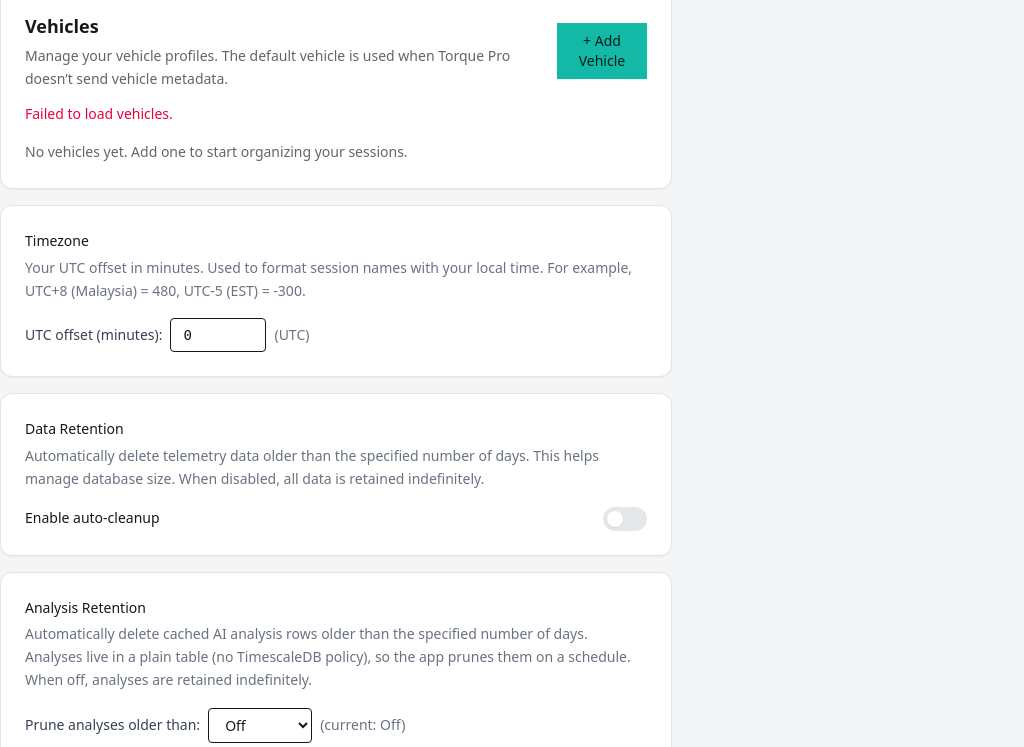
Test: SettingsPage (jsdom) › retention toggle failure shows the API message and re-reads full settings
This screenshot has width=1024, height=747.
(page scrolled)
Step 1. Click the switch named "Enable auto-cleanup" → (625, 518), box [603,506,647,530]
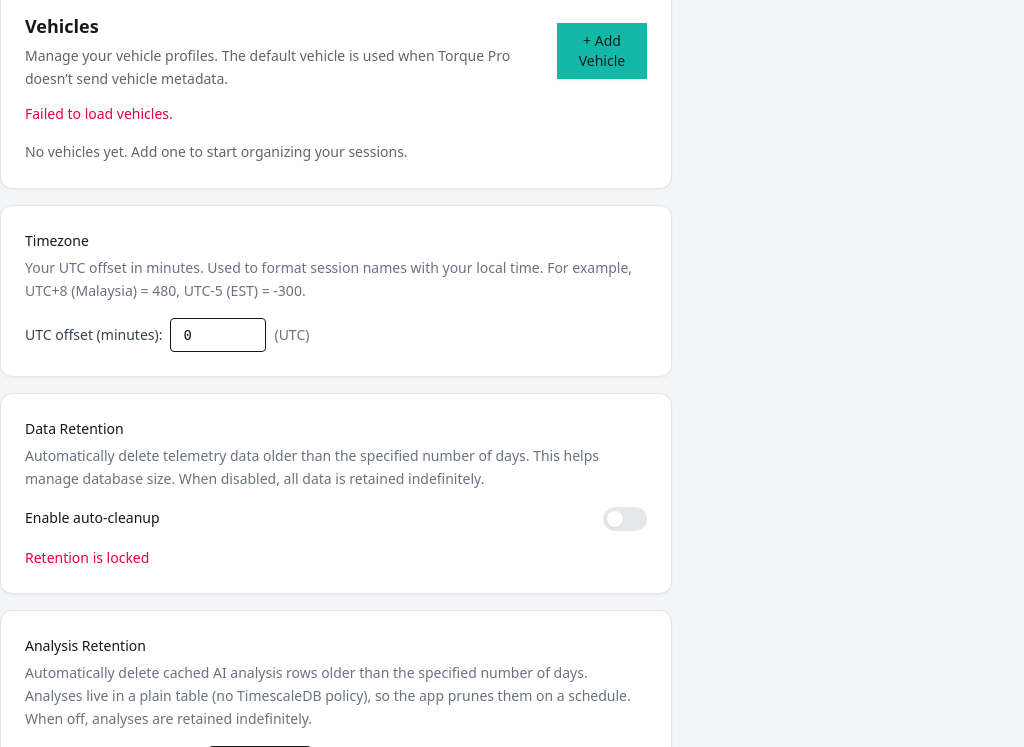
Check: the text "Retention is locked" is shown, box [25,548,149,566]
